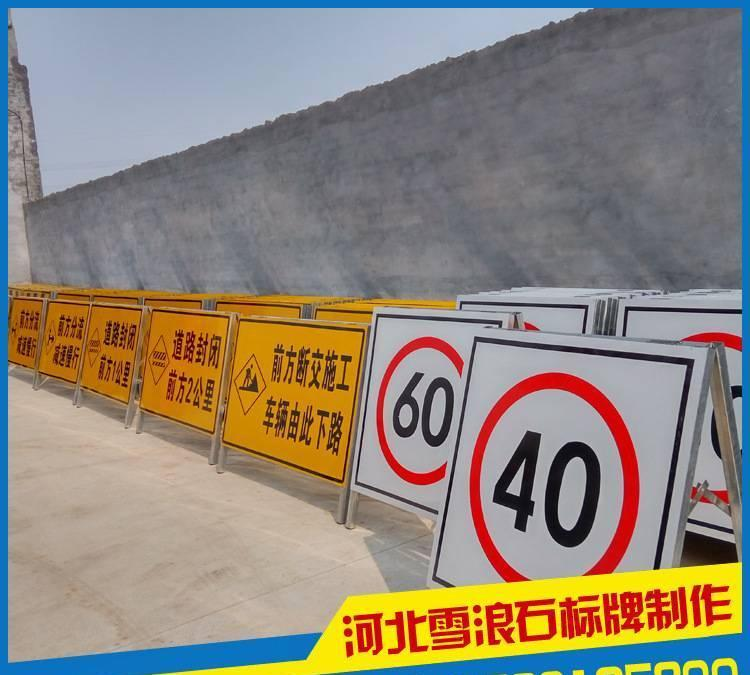sign: (241, 322, 355, 454), (159, 320, 220, 422), (95, 314, 133, 392)
